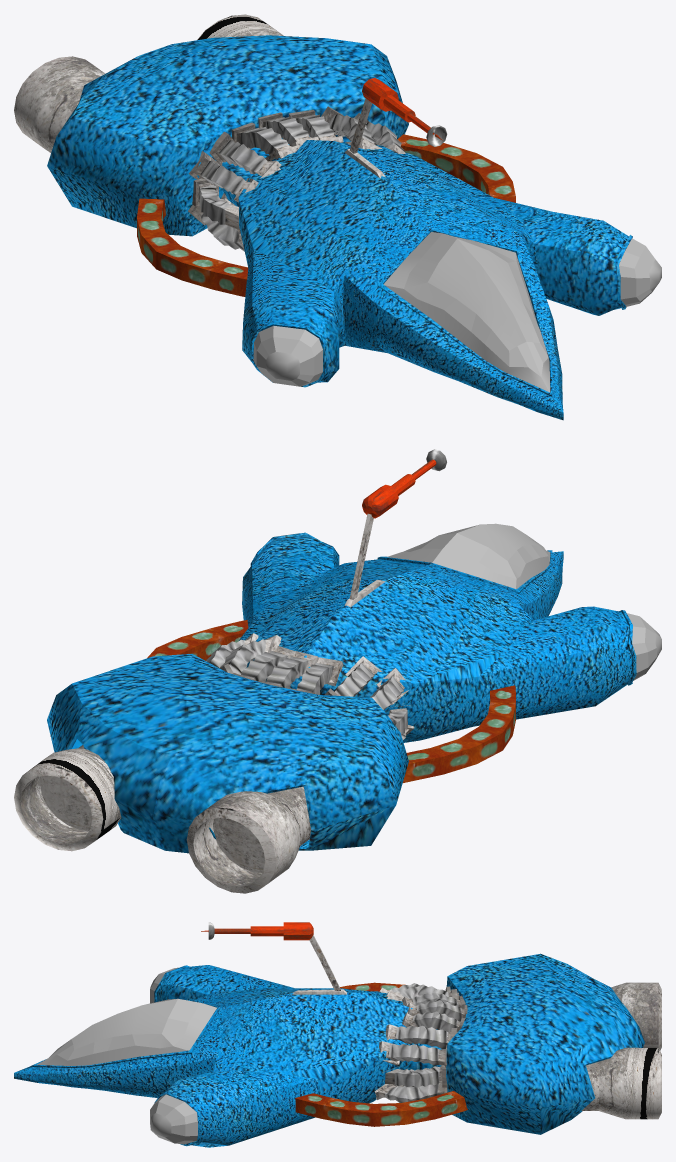
File: nave modelo e-215-ab95.fbx
3 renders of one model, top to bottom at view 1: azimuth 30°, elevation 25°; view 2: azimuth 150°, elevation 25°; view 3: azimuth 270°, elevation 25°, orthographic. The views are drawn at different scales.
Parts seen in each view (by area): view 1: polySurface1; view 2: polySurface1; view 3: polySurface1.
Boxes of the visible parts, bbox=[...] form: polySurface1: bbox=[14, 14, 661, 420]; polySurface1: bbox=[14, 449, 661, 893]; polySurface1: bbox=[14, 922, 661, 1147].
Size of the model in its own units: 7.94 by 4.12 by 14.77.
